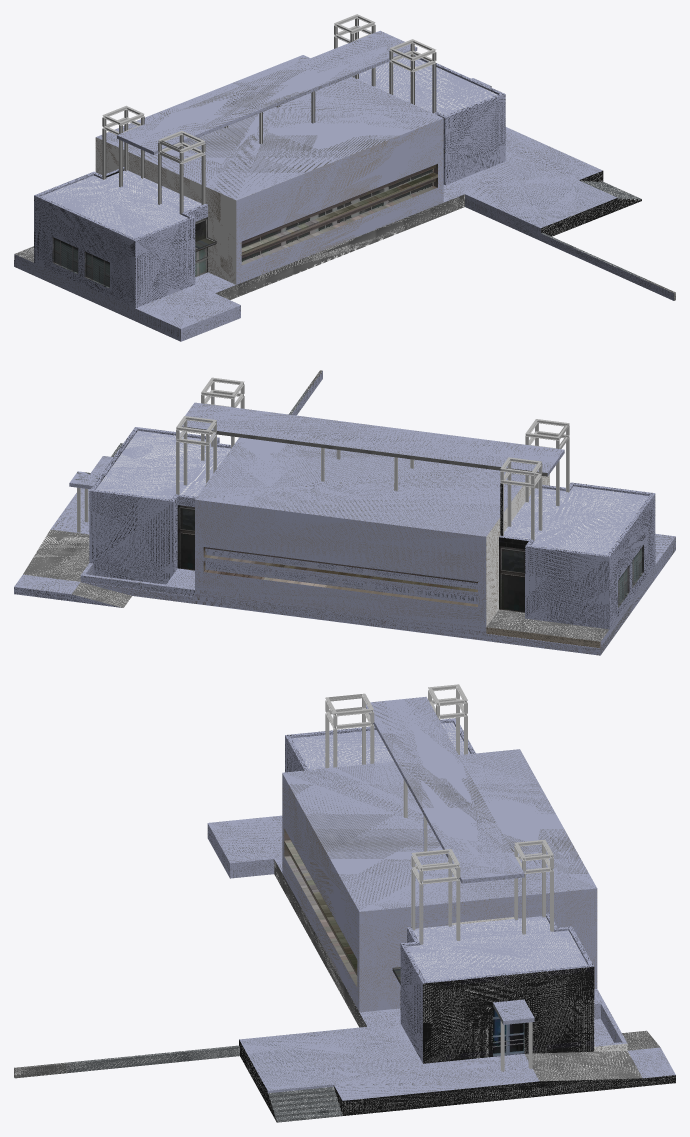
File: Edificio Central Parque 2.fbx
The picture shows the model from 3 angles, top to bottom: view 1: azimuth 30°, elevation 25°; view 2: azimuth 150°, elevation 25°; view 3: azimuth 270°, elevation 25°; orthographic projection. The views are drawn at different scales.
Parts seen in each view (by area): view 1: Group1; view 2: Group1; view 3: Group1.
Part boxes in pixels (<box>): Group1: <box>14,26,675,341</box>; Group1: <box>14,370,675,655</box>; Group1: <box>14,684,675,1122</box>.
Size of the model in its own units: 33.42 by 8.51 by 29.92.
